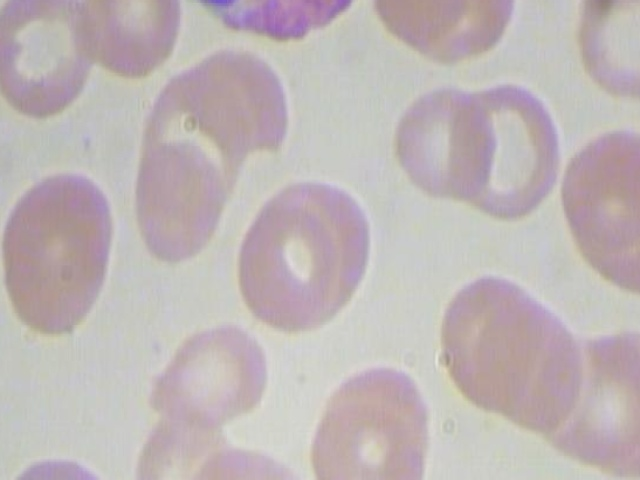RBC: (229, 173, 383, 348), (0, 164, 121, 349), (139, 303, 277, 437), (387, 73, 499, 218), (0, 0, 114, 132), (548, 106, 640, 264), (303, 379, 428, 480), (71, 0, 183, 82), (558, 0, 640, 108), (0, 453, 132, 480)
WBC: (147, 0, 399, 68)
